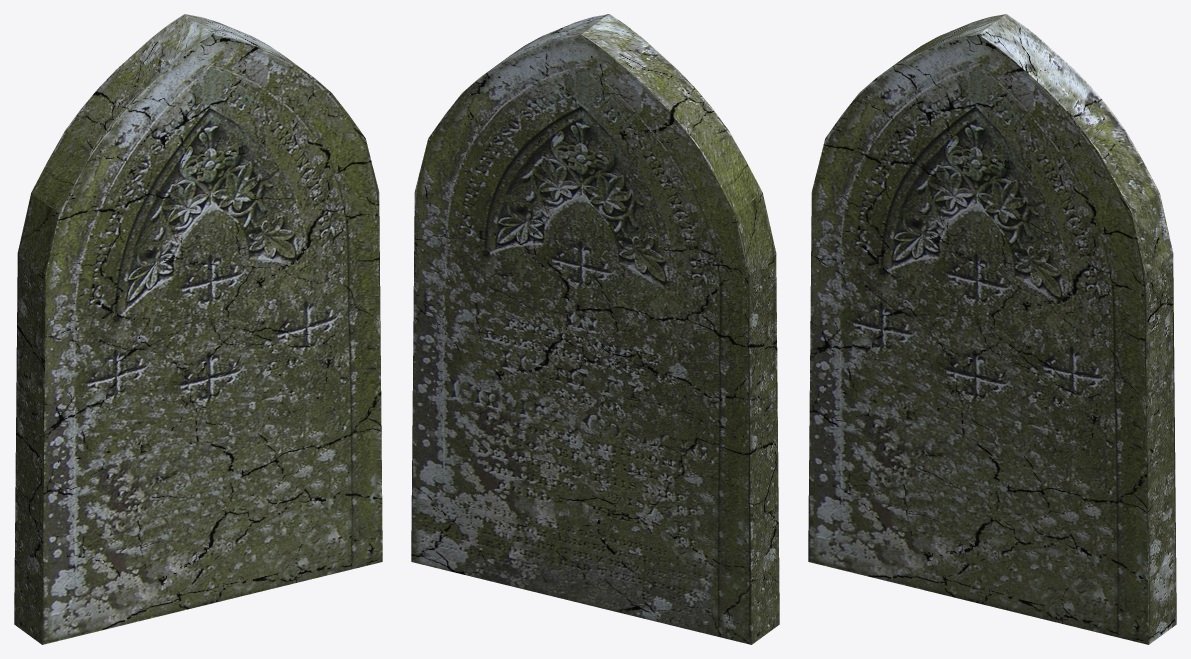
File: tombstone2.obj
The picture shows the model from 3 angles, left to right: view 1: azimuth 30°, elevation 25°; view 2: azimuth 150°, elevation 25°; view 3: azimuth 330°, elevation 25°; orthographic projection.
Parts seen in each view (by area): view 1: Stone; view 2: Stone; view 3: Stone.
Boxes of the visible parts, <box> form: Stone: <box>14,14,382,644</box>; Stone: <box>411,14,779,644</box>; Stone: <box>808,14,1176,644</box>.
Size of the model in its own units: 0.4375 by 0.6984 by 0.0625.
1 material, 1 textured.
